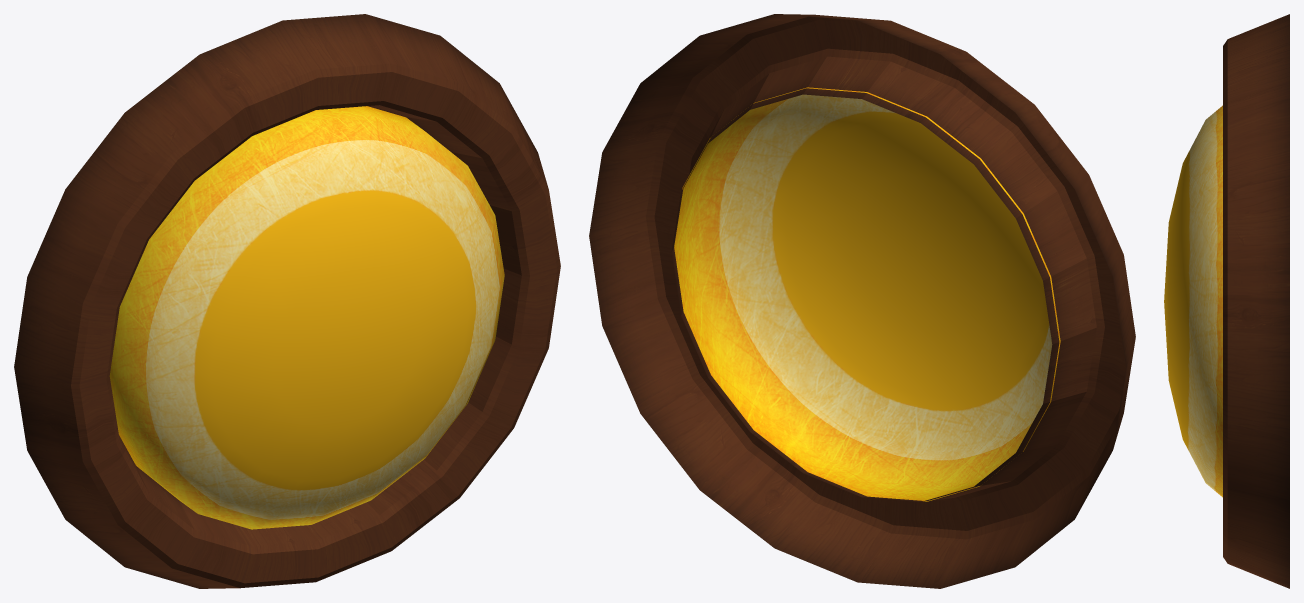
Rendered from Button.fbx.
The picture shows the model from 3 angles, left to right: view 1: azimuth 30°, elevation 25°; view 2: azimuth 150°, elevation 25°; view 3: azimuth 270°, elevation 25°; orthographic projection. The views are drawn at different scales.
Parts seen in each view (by area): view 1: Button, Button_Box; view 2: Button_Box, Button; view 3: Button_Box, Button.
Part boxes in pixels (x1,y1,x2,y2): Button: (109, 106, 504, 529); Button_Box: (14, 14, 560, 588); Button_Box: (589, 14, 1135, 588); Button: (674, 87, 1060, 501); Button_Box: (1223, 14, 1289, 588); Button: (1164, 105, 1222, 497).
Size of the model in its own units: 51.92 by 51.92 by 11.28.
